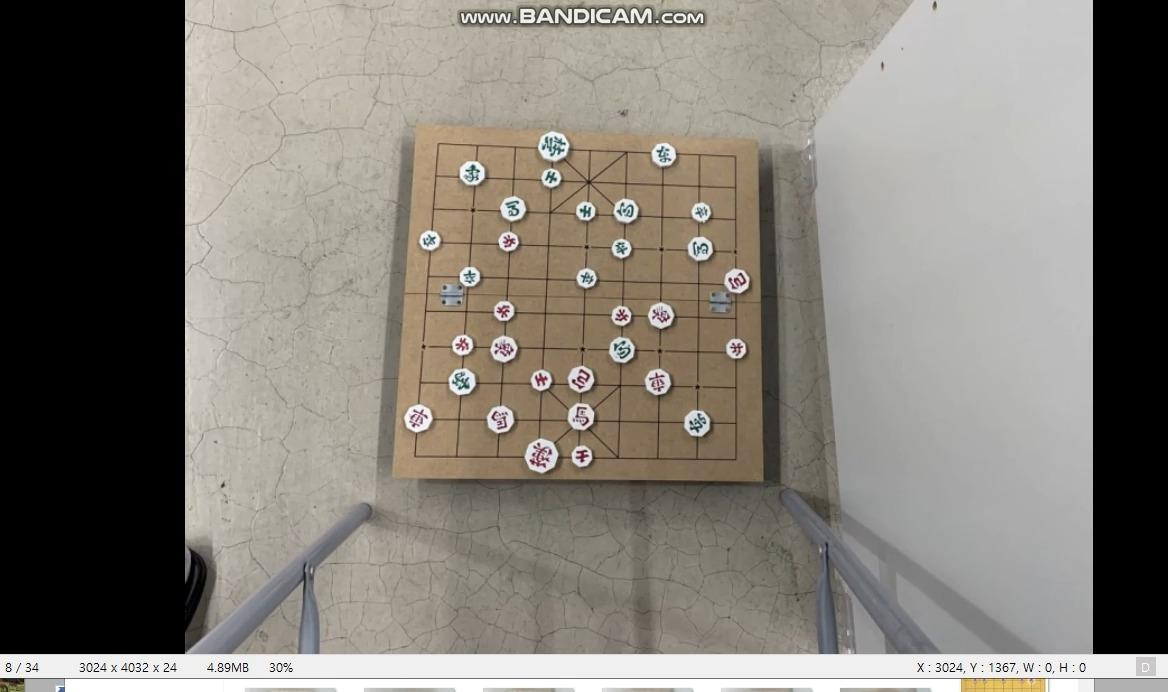cha_green: (681, 411, 712, 436), (651, 145, 678, 167)
cha_red: (404, 405, 433, 432), (643, 371, 672, 396)
jol_green: (459, 267, 483, 286), (419, 231, 443, 250), (577, 269, 599, 288), (691, 203, 713, 222), (611, 240, 633, 258)
jol_red: (451, 335, 475, 356), (497, 233, 521, 252), (725, 339, 749, 358), (610, 307, 633, 326), (493, 303, 516, 321)
ma_green: (499, 197, 528, 221), (687, 237, 716, 260)
ma_red: (486, 406, 514, 435), (566, 404, 596, 431)
po_green: (608, 338, 636, 363), (613, 199, 641, 223)
po_red: (567, 367, 597, 393), (725, 269, 751, 294)
sa_green: (575, 202, 597, 221), (540, 169, 562, 187)
sa_red: (571, 446, 594, 468), (529, 371, 553, 390)
sang_green: (447, 370, 478, 395), (458, 162, 487, 185)
sang_red: (489, 337, 519, 362), (647, 304, 676, 328)
wang_green: (538, 132, 570, 162)
wang_red: (523, 441, 560, 472)
